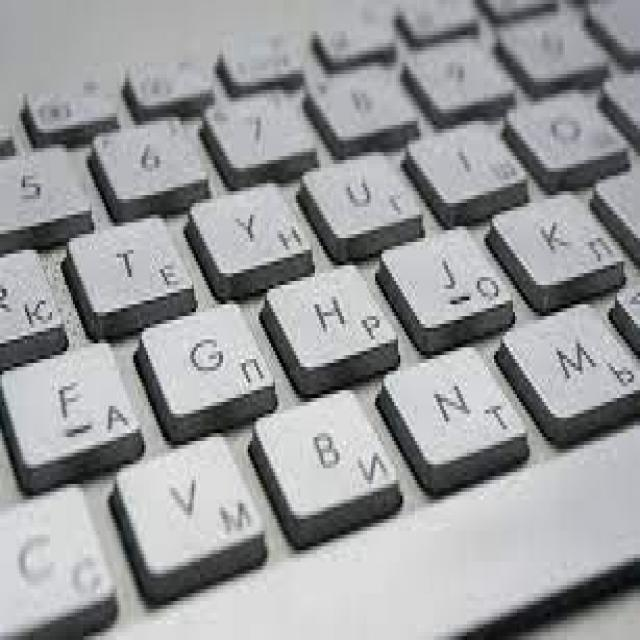others: (2, 4, 634, 636)
